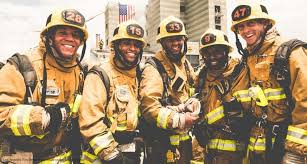emergent: (1, 2, 82, 164), (231, 2, 306, 163), (86, 20, 144, 163), (143, 17, 194, 164), (196, 26, 244, 164)
